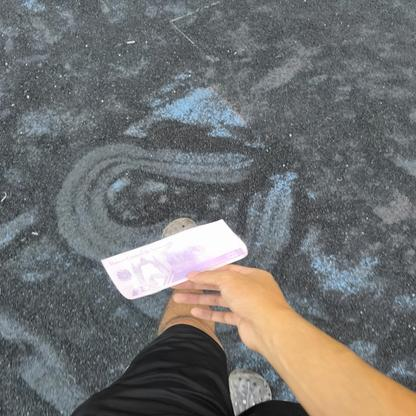one_hundred-back-vef: (100, 217, 249, 300)
